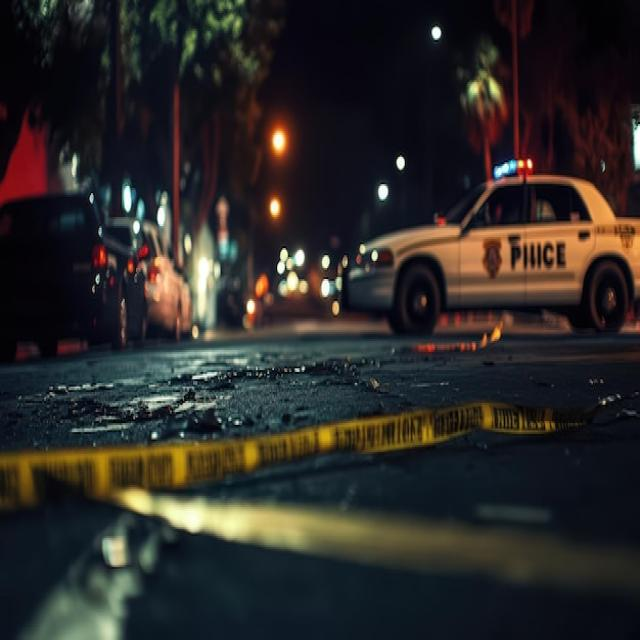cop: (342, 159, 638, 332)
